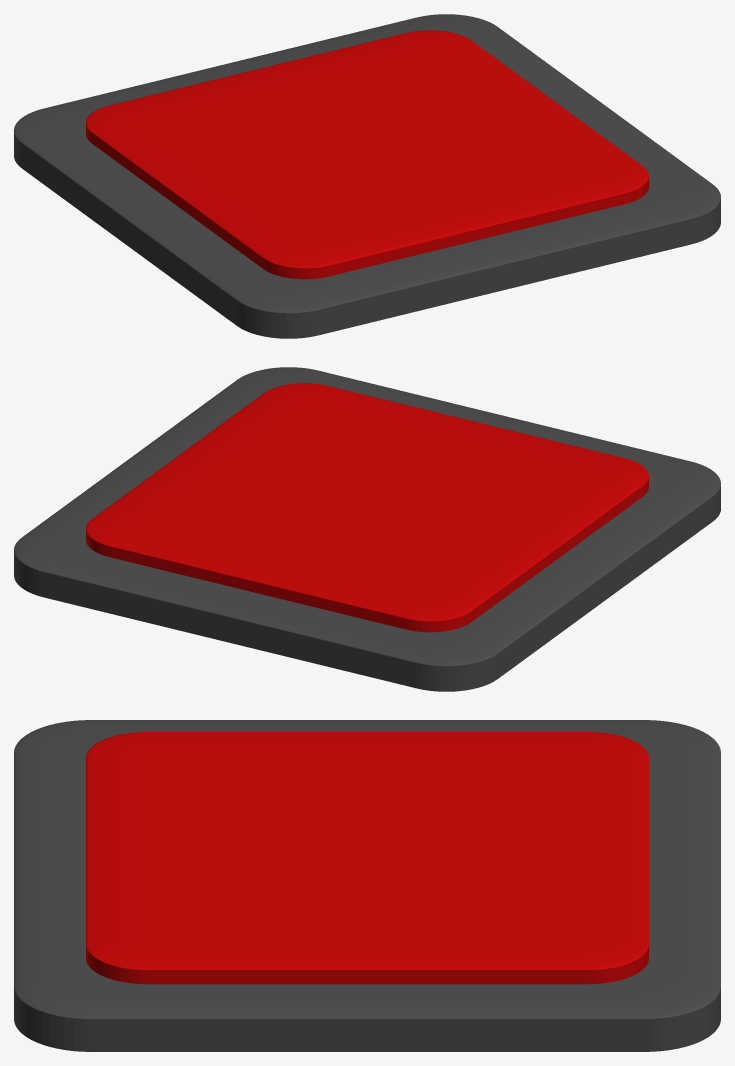
The model's file is button.obj.
The picture shows the model from 3 angles, top to bottom: view 1: azimuth 30°, elevation 25°; view 2: azimuth 150°, elevation 25°; view 3: azimuth 270°, elevation 25°; orthographic projection. The views are drawn at different scales.
Size of the model in its own units: 3.81 by 0.3524 by 3.81.
